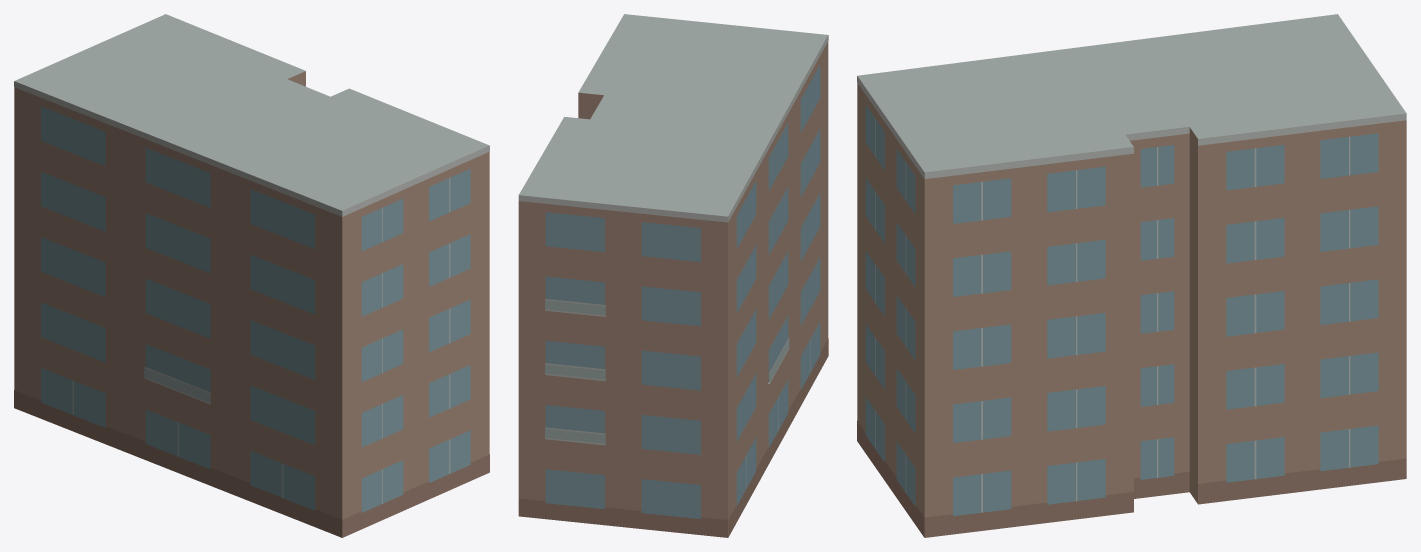
File: survey-upis-32612310.glb
3 renders of one model, left to right at view 1: azimuth 30°, elevation 25°; view 2: azimuth 150°, elevation 25°; view 3: azimuth 270°, elevation 25°, orthographic. The views are drawn at different scales.
Visible parts, largest first — view 1: survey-upis-32612310.tmp; view 2: survey-upis-32612310.tmp; view 3: survey-upis-32612310.tmp.
Boxes of the visible parts, left/top/right/bottom form: survey-upis-32612310.tmp: left=14, top=14, right=489, bottom=537; survey-upis-32612310.tmp: left=518, top=14, right=828, bottom=537; survey-upis-32612310.tmp: left=857, top=14, right=1406, bottom=537.
Size of the model in its own units: 12.39 by 13.3 by 18.14.
